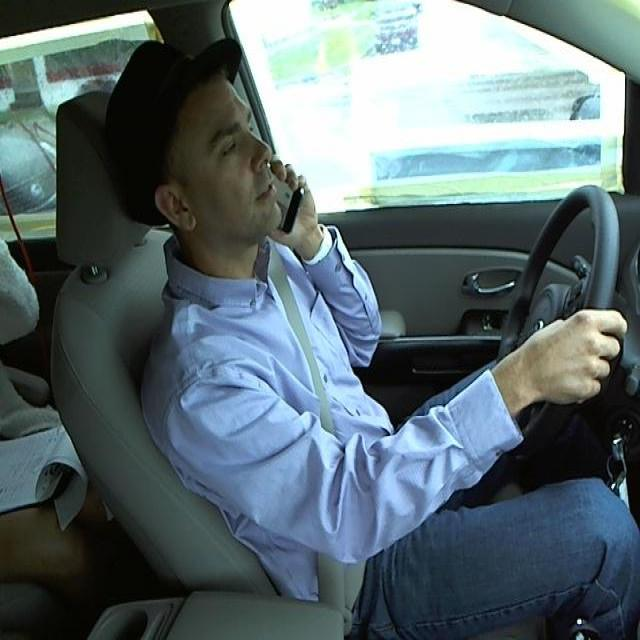using_phone: (96, 27, 319, 278)
